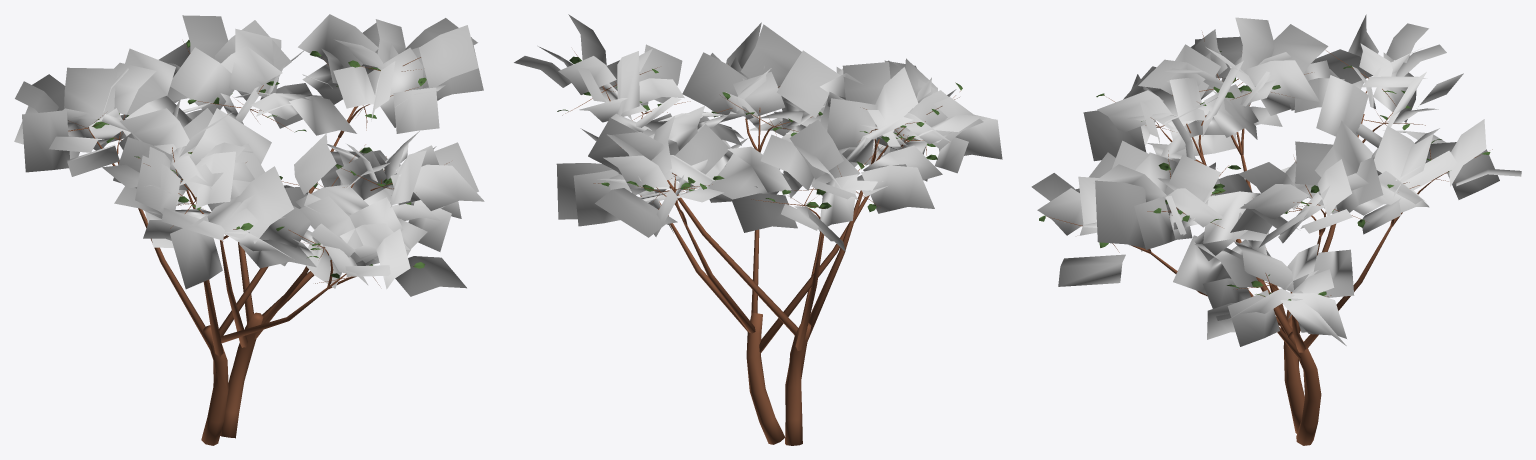
Rendered from V7_Arbousier_1_Niveau1.fbx.
3 renders of one model, left to right at view 1: azimuth 30°, elevation 25°; view 2: azimuth 150°, elevation 25°; view 3: azimuth 270°, elevation 25°, orthographic.
Parts seen in each view (by area): view 1: V7_Arbousier_1_Detail1; view 2: V7_Arbousier_1_Detail1; view 3: V7_Arbousier_1_Detail1.
Boxes of the visible parts, x1,y1,x2,y2 form: V7_Arbousier_1_Detail1: (14,14,484,445); V7_Arbousier_1_Detail1: (514,14,1002,445); V7_Arbousier_1_Detail1: (1031,14,1521,445).
Bounding box in the file's own units: 426 × 358 × 418.
